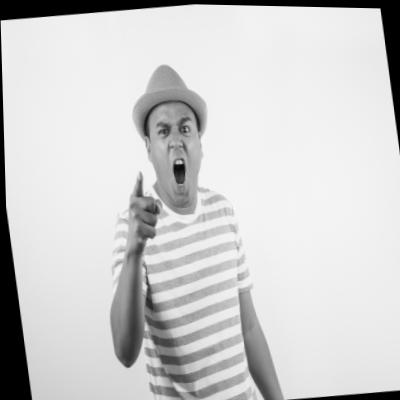angry: (143, 100, 208, 205)
